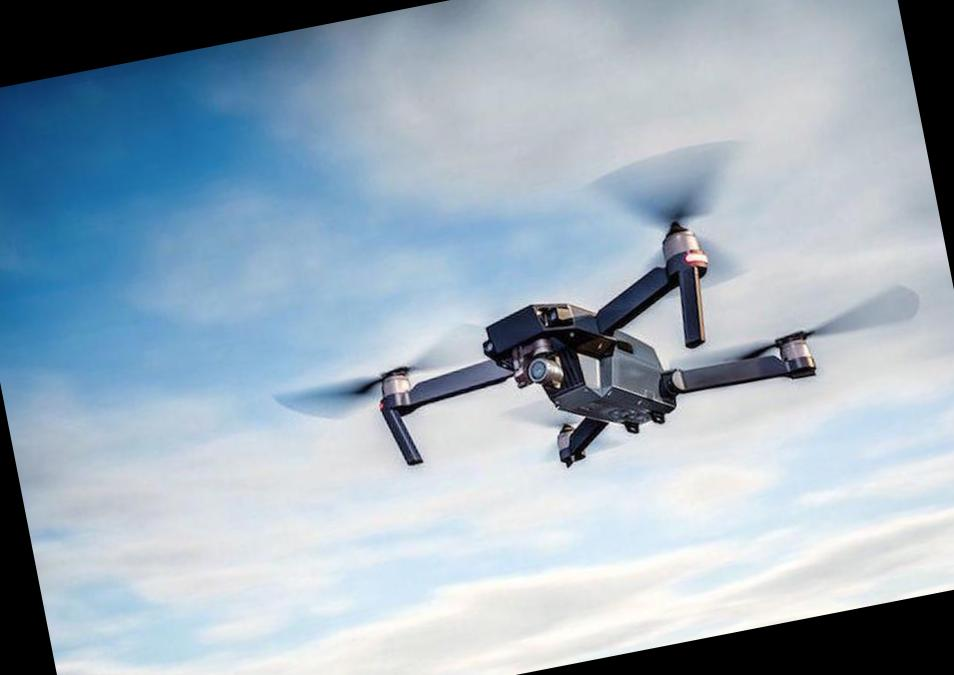drone: (268, 134, 926, 512)
